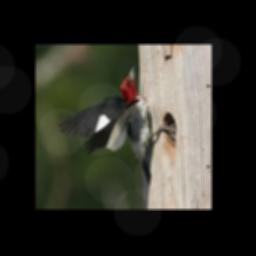Woodpecker: (59, 66, 175, 184)
